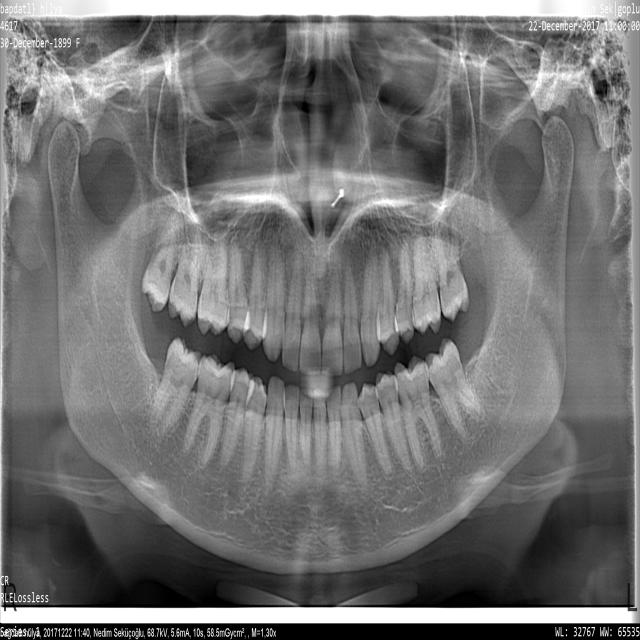Canine: (262, 227, 286, 363), (340, 382, 367, 486), (360, 241, 380, 367), (265, 376, 284, 487)
Incisores: (281, 250, 303, 372), (300, 256, 321, 375), (322, 267, 343, 377), (343, 255, 362, 374), (283, 385, 300, 470), (326, 385, 342, 470), (299, 389, 313, 467), (313, 388, 327, 462)
Premolars: (375, 372, 412, 472), (358, 384, 391, 474), (221, 366, 249, 469), (242, 238, 267, 351), (241, 374, 267, 481), (377, 246, 400, 355), (227, 239, 248, 344), (396, 242, 414, 343)
molars: (183, 354, 234, 464), (426, 338, 481, 436), (395, 357, 442, 468), (150, 337, 201, 439), (140, 209, 180, 313), (434, 210, 470, 322), (197, 221, 230, 335), (169, 220, 203, 328), (412, 231, 441, 336)
